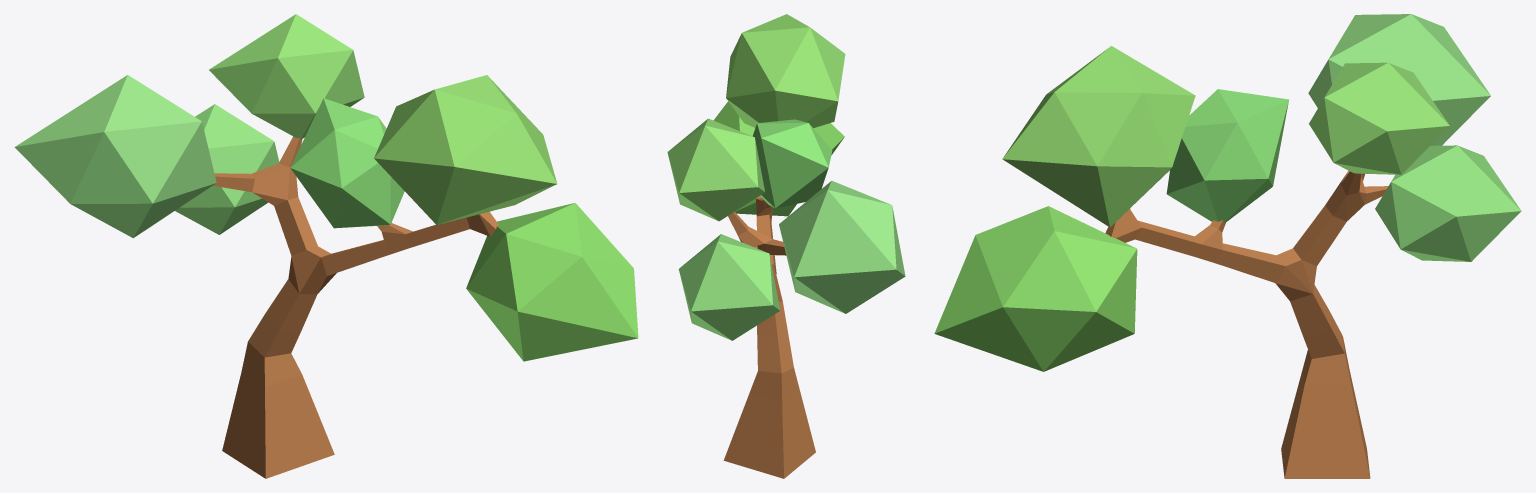
Rendered from Pohon.fbx.
3 renders of one model, left to right at view 1: azimuth 30°, elevation 25°; view 2: azimuth 150°, elevation 25°; view 3: azimuth 270°, elevation 25°, orthographic. The views are drawn at different scales.
Parts seen in each view (by area): view 1: Cube, Icosphere.002, Icosphere, Icosphere.001, Icosphere.004, Icosphere.003, Icosphere.005; view 2: Icosphere, Icosphere.001, Cube, Icosphere.005, Icosphere.004, Icosphere.003, Icosphere.002; view 3: Icosphere.002, Icosphere.001, Cube, Icosphere.005, Icosphere.003, Icosphere.004, Icosphere.
Boxes of the visible parts, bbox=[...] form: Cube: bbox=[213, 136, 498, 478]; Icosphere.002: bbox=[466, 203, 638, 361]; Icosphere: bbox=[14, 75, 216, 238]; Icosphere.001: bbox=[374, 75, 557, 224]; Icosphere.004: bbox=[209, 14, 364, 139]; Icosphere.003: bbox=[290, 98, 404, 228]; Icosphere.005: bbox=[175, 104, 279, 234]; Icosphere: bbox=[779, 181, 905, 313]; Icosphere.001: bbox=[726, 14, 845, 127]; Cube: bbox=[723, 196, 815, 478]; Icosphere.005: bbox=[678, 234, 780, 340]; Icosphere.004: bbox=[667, 118, 764, 221]; Icosphere.003: bbox=[753, 119, 832, 208]; Icosphere.002: bbox=[713, 101, 844, 216]; Icosphere.002: bbox=[934, 206, 1137, 371]; Icosphere.001: bbox=[1002, 46, 1195, 227]; Cube: bbox=[1105, 170, 1388, 478]; Icosphere.005: bbox=[1375, 145, 1521, 261]; Icosphere.003: bbox=[1166, 89, 1288, 222]; Icosphere.004: bbox=[1309, 62, 1449, 174]; Icosphere: bbox=[1308, 14, 1490, 145].
Size of the model in its own units: 732 by 732 by 866.
